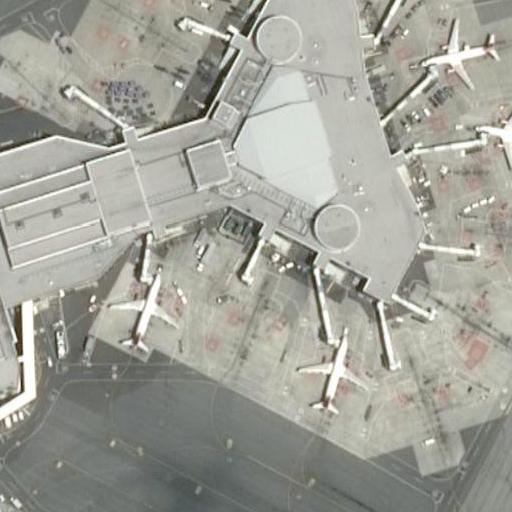Aircraft: (292, 337, 368, 420), (417, 16, 501, 89), (108, 272, 177, 353), (468, 98, 512, 179), (0, 502, 20, 512)
